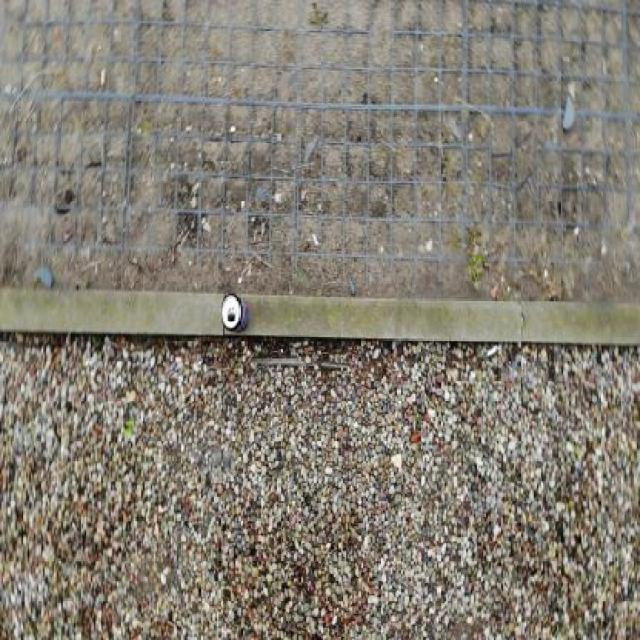Garbage: (220, 294, 248, 331)
